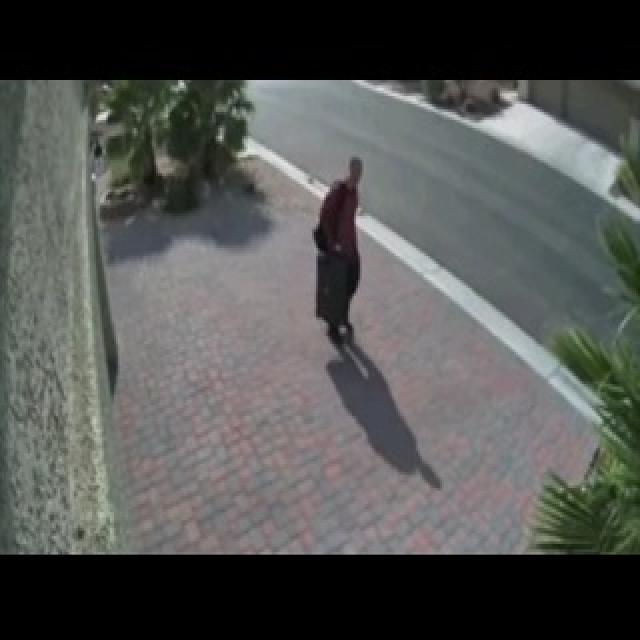thief: (307, 136, 363, 328)
